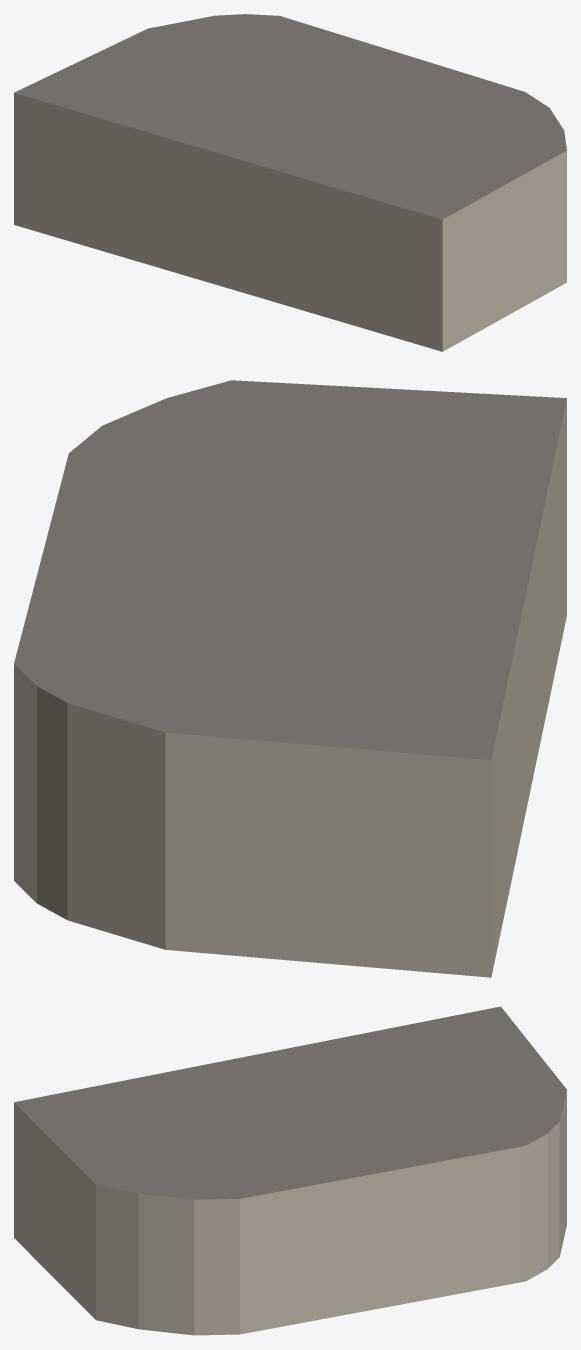
3 views of the same model, one above another, from view 1: azimuth 30°, elevation 25°; view 2: azimuth 150°, elevation 25°; view 3: azimuth 270°, elevation 25° (orthographic). The views are drawn at different scales.
Parts seen in each view (by area): view 1: HP-w756799596; view 2: HP-w756799596; view 3: HP-w756799596.
Part boxes in pixels (x1,y1,x2,y2): HP-w756799596: (14,14,566,351); HP-w756799596: (14,380,566,977); HP-w756799596: (14,1006,566,1335).
Size of the model in its own units: 36.68 by 12 by 44.34.
